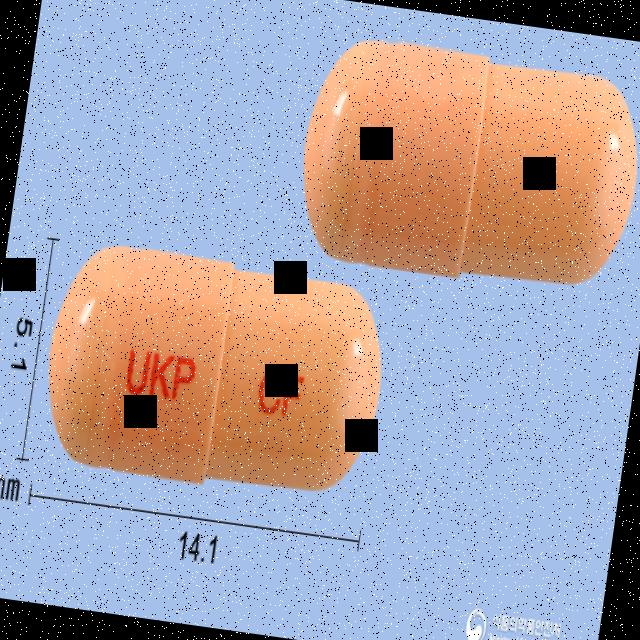Unifixime Cap: (33, 233, 396, 508)
